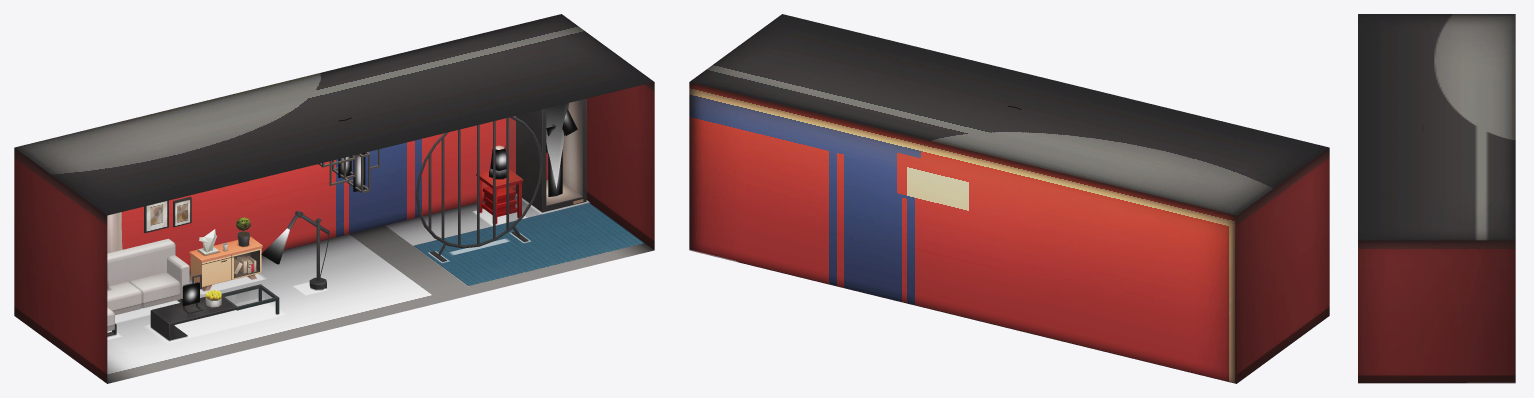
File: bauhaus.glb
3 views of the same model, side by side, from view 1: azimuth 30°, elevation 25°; view 2: azimuth 150°, elevation 25°; view 3: azimuth 270°, elevation 25° (orthographic). The views are drawn at different scales.
Visible parts, largest first — view 1: ROOM_room, ROOM_floor, furni_bauhaus_carpet_01, furni_bauhaus_branchDecor_01, furni_bauhaus_sofa_01, furni_bauhaus_decoration_01, furni_bauhaus_coffeeTable_01, furni_bauhaus_decoration_02, furni_bauhaus_cabinet_01, shadow.001, furni_bauhaus_tableLamp_01, ROOM_RDoor (+10 smaller); view 2: ROOM_room, ROOM_LDoor; view 3: ROOM_room, ROOM_RDoor.
Part boxes in pixels (bbox=[...]): ROOM_room: bbox=[14, 14, 654, 383]; ROOM_floor: bbox=[107, 195, 654, 383]; furni_bauhaus_carpet_01: bbox=[413, 203, 644, 285]; furni_bauhaus_branchDecor_01: bbox=[516, 98, 586, 212]; furni_bauhaus_sofa_01: bbox=[107, 238, 189, 336]; furni_bauhaus_decoration_01: bbox=[415, 116, 542, 262]; furni_bauhaus_coffeeTable_01: bbox=[150, 274, 279, 341]; furni_bauhaus_decoration_02: bbox=[509, 117, 539, 227]; furni_bauhaus_cabinet_01: bbox=[189, 236, 262, 291]; shadow.001: bbox=[145, 298, 285, 342]; furni_bauhaus_tableLamp_01: bbox=[476, 145, 523, 224]; ROOM_RDoor: bbox=[621, 150, 640, 239]; ROOM_room: bbox=[689, 14, 1329, 383]; ROOM_LDoor: bbox=[1296, 249, 1315, 339]; ROOM_room: bbox=[1358, 14, 1515, 383]; ROOM_RDoor: bbox=[1381, 318, 1413, 383].
Bounding box in the file's own units: 7.53 × 2.21 × 2.26.
8 materials, 8 textured.
